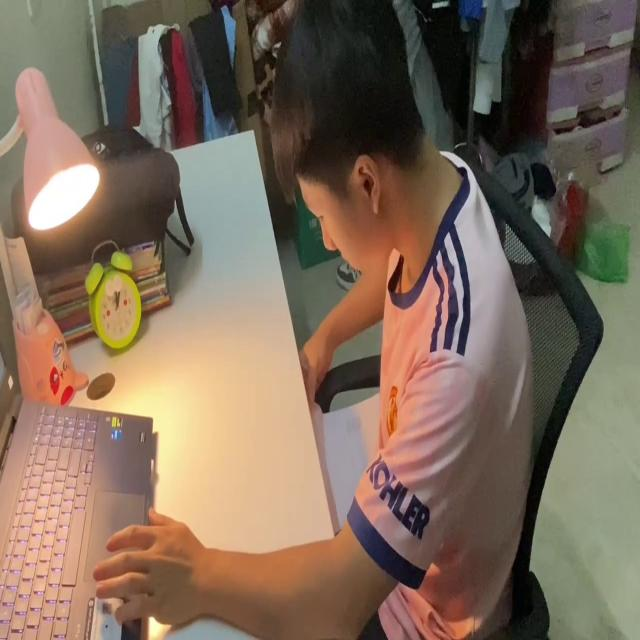book: (308, 395, 379, 538)
laptop: (0, 339, 155, 640)
student: (91, 0, 536, 640)
